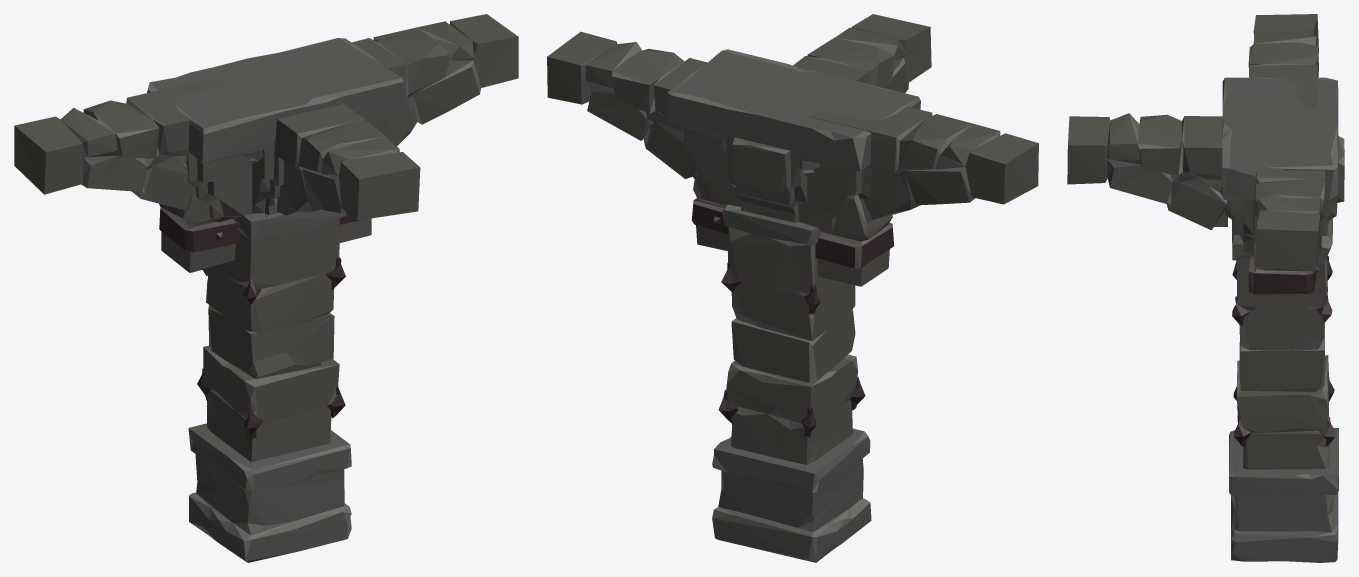
File: MDungeons_Walls_Pillar_03.FBX
The picture shows the model from 3 angles, left to right: view 1: azimuth 30°, elevation 25°; view 2: azimuth 150°, elevation 25°; view 3: azimuth 270°, elevation 25°; orthographic projection. The views are drawn at different scales.
Visible parts, largest first — view 1: MDungeons_Walls_Pillar_03_LOD0; view 2: MDungeons_Walls_Pillar_03_LOD0; view 3: MDungeons_Walls_Pillar_03_LOD0.
Part boxes in pixels (left/top/right/bottom): MDungeons_Walls_Pillar_03_LOD0: left=14, top=14, right=518, bottom=562; MDungeons_Walls_Pillar_03_LOD0: left=547, top=14, right=1038, bottom=562; MDungeons_Walls_Pillar_03_LOD0: left=1067, top=14, right=1344, bottom=562.
Size of what is drawn, in the model's own units: 8.81 by 8.05 by 4.8.
